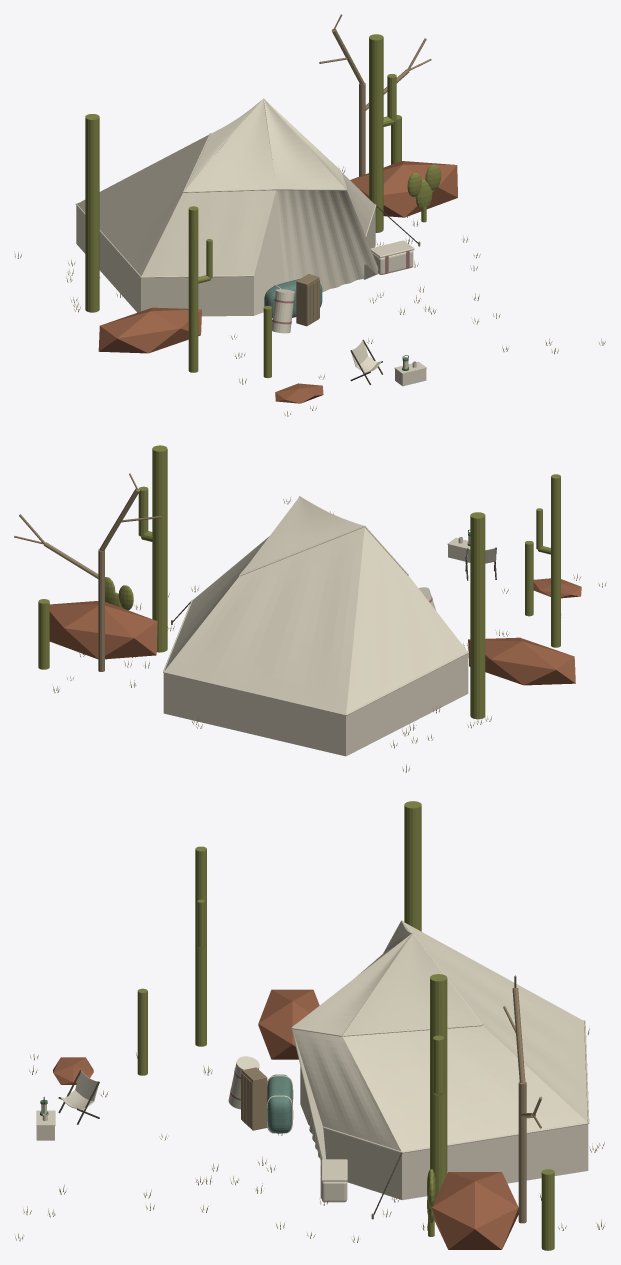
File: C05_remade.glb
3 views of the same model, one above another, from view 1: azimuth 30°, elevation 25°; view 2: azimuth 150°, elevation 25°; view 3: azimuth 270°, elevation 25° (orthographic). The views are drawn at different scales.
Parts seen in each view (by area): view 1: T01_skirt_0.001, T02_front_closed_drape.001, T01_skirt_5.001, T01_roof_0.001, T01_lowwall_0.001, R01_rock_proxy_0.001, T01_roof_1.001, V01_cactus_1.001, R01_rock_proxy_1.001, V01_cactus_3.001, T01_lowwall_5.001, T02_left_flap.001 (+11 smaller); view 2: T01_skirt_4.001, T01_skirt_5.001, T01_lowwall_4.001, T01_lowwall_5.001, R01_rock_proxy_1.001, R01_rock_proxy_0.001, T01_roof_4.001, V01_cactus_1.001, V01_cactus_3.001, T01_skirt_3.001, V01_cactus_0.001, V02_dead_branch_proxy_0.001 (+4 smaller); view 3: T01_skirt_3.001, T01_skirt_4.001, T01_lowwall_3.001, T01_skirt_2.001, T01_roof_3.001, R01_rock_proxy_1.001, T01_lowwall_2.001, V01_cactus_3.001, T01_roof_2.001, R01_rock_proxy_0.001, V01_cactus_1.001, V01_cactus_0.001 (+12 smaller).
Part boxes in pixels (x1,y1,x2,y2): T01_skirt_0.001: (141,190,275,276); T02_front_closed_drape.001: (276,190,378,292); T01_skirt_5.001: (77,135,208,276); T01_roof_0.001: (185,99,276,191); T01_lowwall_0.001: (141,276,253,316); R01_rock_proxy_0.001: (98,307,201,353); T01_roof_1.001: (263,99,345,188); V01_cactus_1.001: (85,114,99,312); R01_rock_proxy_1.001: (350,161,457,217); V01_cactus_3.001: (369,34,383,232); T01_lowwall_5.001: (76,206,140,312); T02_left_flap.001: (254,190,284,315); T01_skirt_4.001: (164,527,364,714); T01_skirt_5.001: (346,527,467,713); T01_lowwall_4.001: (163,673,345,756); T01_lowwall_5.001: (346,653,468,756); R01_rock_proxy_1.001: (49,601,157,659); R01_rock_proxy_0.001: (468,637,575,685); T01_roof_4.001: (241,496,362,573); V01_cactus_1.001: (470,512,485,719); V01_cactus_3.001: (152,445,167,652); T01_skirt_3.001: (164,536,269,670); V01_cactus_0.001: (551,474,560,647); V02_dead_branch_proxy_0.001: (98,549,104,671); T01_skirt_3.001: (343,1025,586,1151); T01_skirt_4.001: (404,922,587,1121); T01_lowwall_3.001: (402,1124,588,1200); T01_skirt_2.001: (293,1029,400,1150); T01_roof_3.001: (343,934,481,1034); R01_rock_proxy_1.001: (431,1172,518,1249); T01_lowwall_2.001: (323,1128,401,1199); V01_cactus_3.001: (430,974,447,1198); T01_roof_2.001: (293,933,412,1034); R01_rock_proxy_0.001: (258,989,319,1059); V01_cactus_1.001: (404,801,421,931); V01_cactus_0.001: (195,846,206,1046).
Size of what is drawn, in the model's own units: 16.57 by 7.21 by 16.23.
